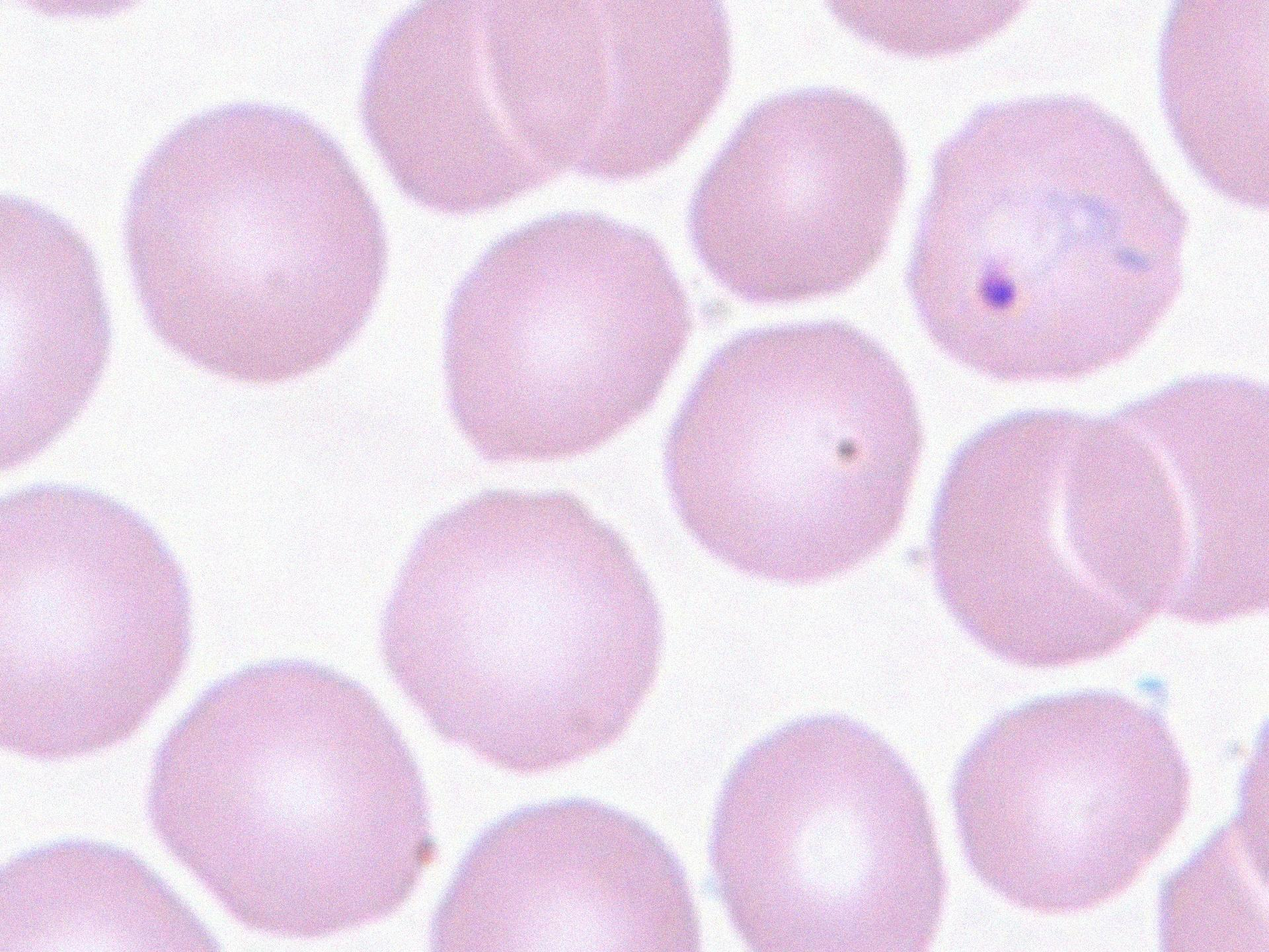Infected: (912, 93, 1184, 381)
Uninfected: (382, 485, 663, 770), (154, 666, 429, 935), (129, 104, 380, 382), (671, 323, 919, 582), (934, 414, 1193, 661), (448, 220, 688, 462), (715, 713, 943, 952), (0, 483, 195, 759), (362, 0, 614, 213), (957, 692, 1186, 917), (1064, 376, 1269, 623), (681, 89, 903, 302), (481, 0, 726, 171), (428, 799, 700, 952)
